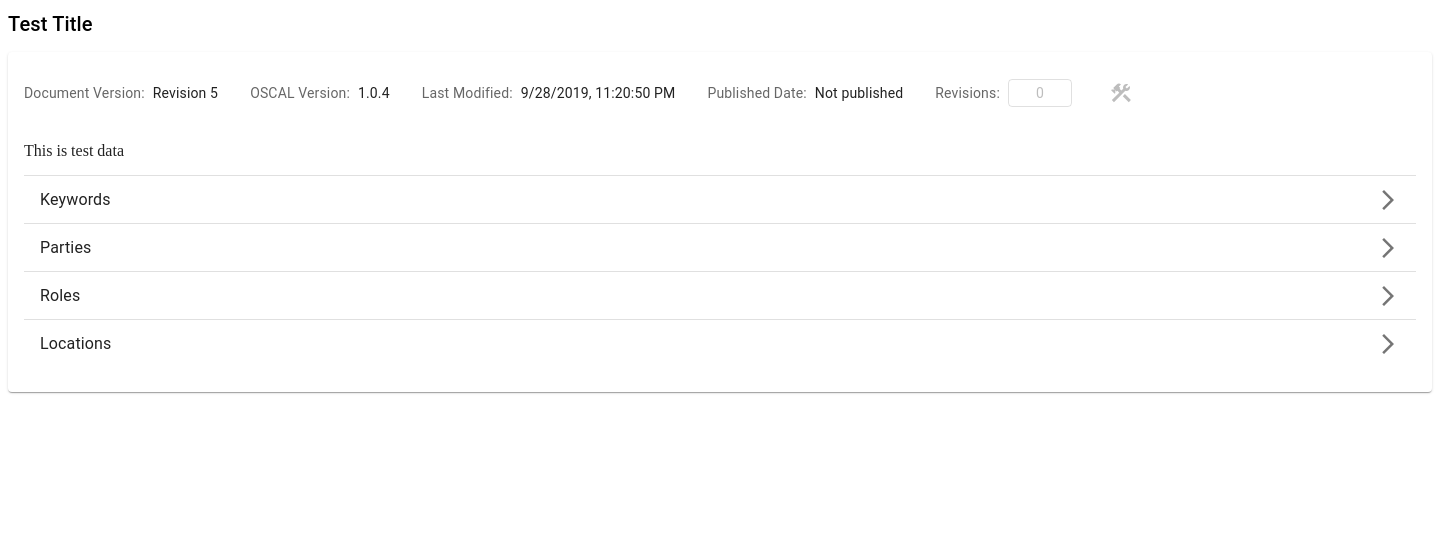
Test: OSCAL metadata parties › displays parties
This screenshot has width=1440, height=554.
Click the button "Parties": (66, 248) [40,236,1400,260]
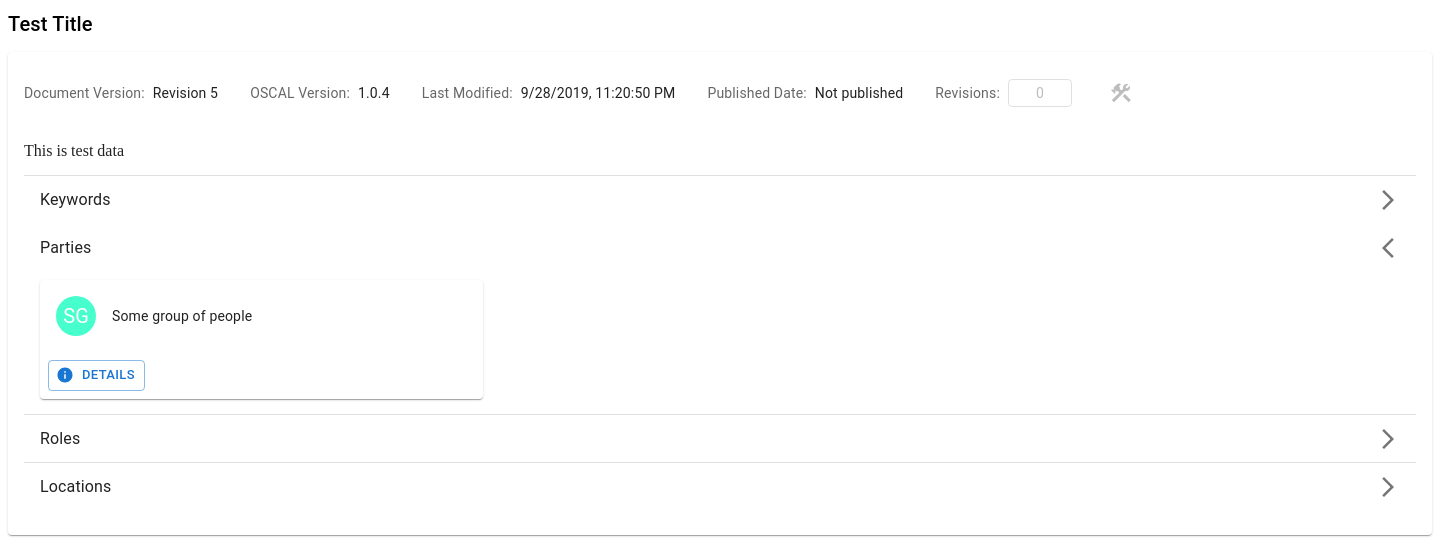
expect the text "Some group of people" is shown: met, box [112,308,252,324]
